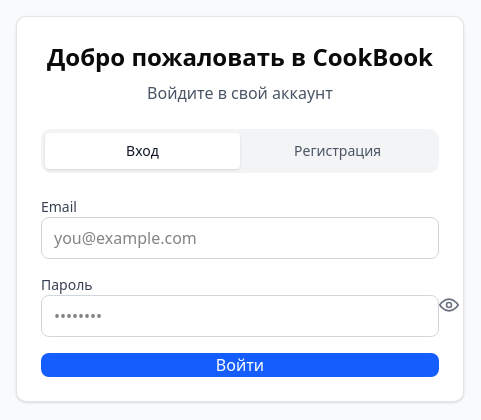
Test: SimpleAuthPage – production suite › toggles password visibility
Click the button named "Показать пароль" at (449, 305), box top-left (439, 295), bottom-right (459, 315)
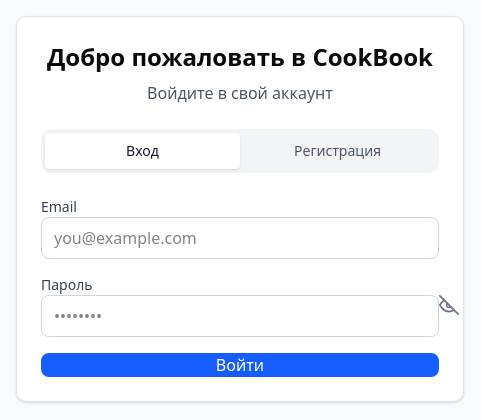
Result: the button named "Скрыть пароль" is shown at top-left (439, 295), bottom-right (459, 315)
